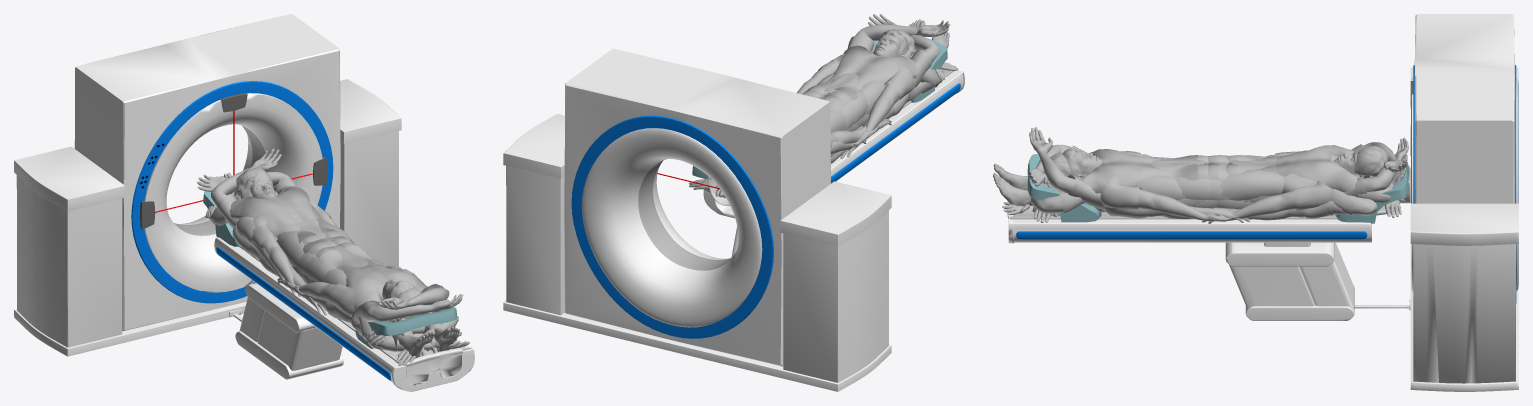
The model's file is Mike.glb.
3 views of the same model, side by side, from view 1: azimuth 30°, elevation 25°; view 2: azimuth 150°, elevation 25°; view 3: azimuth 270°, elevation 25° (orthographic).
Parts seen in each view (by area): view 1: SM_MRI_tilt.001, SM_MRI_base, SM_MRI_bed_upDown.001, scrubShirt_geo9, M4_baseMesh_geo1.001, scrubShirt_geo5, M4_baseMesh_geo1, SM_MRI_bed_inOut.001, SM_head_arm_rest1.001, M4_baseMesh_geo3, scrubShirt_geo8, M4_baseMesh_geo8 (+15 smaller); view 2: SM_MRI_tilt.001, SM_MRI_base, SM_MRI_bed_upDown.001, scrubShirt_geo5, M4_baseMesh_geo1.001, scrubShirt_geo1.001, M4_baseMesh_geo6, M4_baseMesh_geo4, scrubShirt_geo6, scrubPants_geo3, SM_head_arm_rest1.001, scrubShirt_geo4 (+3 smaller); view 3: SM_MRI_base, SM_MRI_tilt.001, SM_MRI_bed_upDown.001, scrubShirt_geo9, M4_baseMesh_geo1.001, scrubShirt_geo5, M4_baseMesh_geo1, scrubShirt_geo8, M4_baseMesh_geo6, scrubPants_geo1.001, scrubShirt_geo6, SM_head_arm_rest1.001 (+15 smaller).
Part boxes in pixels (x1,y1,x2,y2): SM_MRI_tilt.001: [74, 14, 340, 330]; SM_MRI_base: [14, 79, 401, 379]; SM_MRI_bed_upDown.001: [214, 237, 474, 391]; scrubShirt_geo9: [213, 185, 337, 242]; M4_baseMesh_geo1.001: [222, 168, 463, 321]; scrubShirt_geo5: [337, 258, 427, 339]; M4_baseMesh_geo1: [197, 148, 430, 334]; SM_MRI_bed_inOut.001: [238, 245, 466, 385]; SM_head_arm_rest1.001: [355, 307, 456, 348]; M4_baseMesh_geo3: [290, 263, 459, 358]; scrubShirt_geo8: [251, 205, 352, 253]; M4_baseMesh_geo8: [204, 216, 442, 356]; SM_MRI_tilt.001: [564, 48, 830, 366]; SM_MRI_base: [503, 114, 891, 391]; SM_MRI_bed_upDown.001: [703, 70, 964, 218]; scrubShirt_geo5: [807, 45, 937, 99]; M4_baseMesh_geo1.001: [855, 14, 950, 62]; scrubShirt_geo1.001: [824, 35, 931, 92]; M4_baseMesh_geo6: [714, 67, 900, 197]; M4_baseMesh_geo4: [715, 62, 958, 195]; scrubShirt_geo6: [817, 54, 913, 100]; scrubPants_geo3: [817, 73, 886, 114]; SM_head_arm_rest1.001: [873, 38, 947, 102]; scrubShirt_geo4: [812, 67, 913, 101]; SM_MRI_base: [1225, 67, 1518, 391]; SM_MRI_tilt.001: [1410, 14, 1518, 303]; SM_MRI_bed_upDown.001: [1008, 217, 1371, 246]; scrubShirt_geo9: [1237, 145, 1374, 201]; M4_baseMesh_geo1.001: [1027, 127, 1406, 193]; scrubShirt_geo5: [1058, 149, 1198, 202]; M4_baseMesh_geo1: [1334, 137, 1408, 191]; scrubShirt_geo8: [1218, 150, 1355, 216]; M4_baseMesh_geo6: [1138, 155, 1404, 221]; scrubPants_geo1.001: [1220, 155, 1281, 195]; scrubShirt_geo6: [1100, 151, 1198, 209]; SM_head_arm_rest1.001: [1027, 154, 1101, 222].
Bounding box in the file's own units: 2.3 × 1.53 × 3.03.
1 material, 1 textured.
